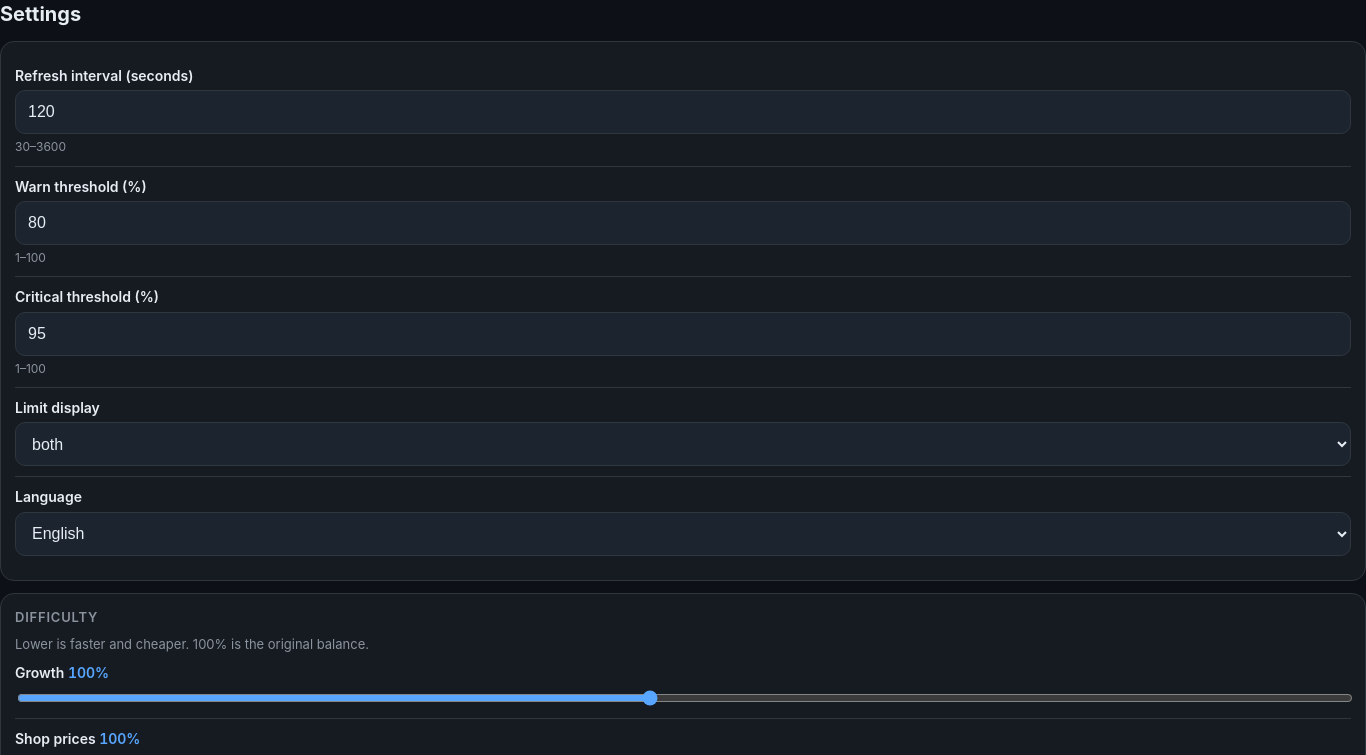
Scenario: Settings round-trip › shows the server's 400 message and restores the real value
Replace the text in the number field labelled "Refresh interval (seconds) 30–3600" with "5": x=683, y=112 [15,90,1351,134]
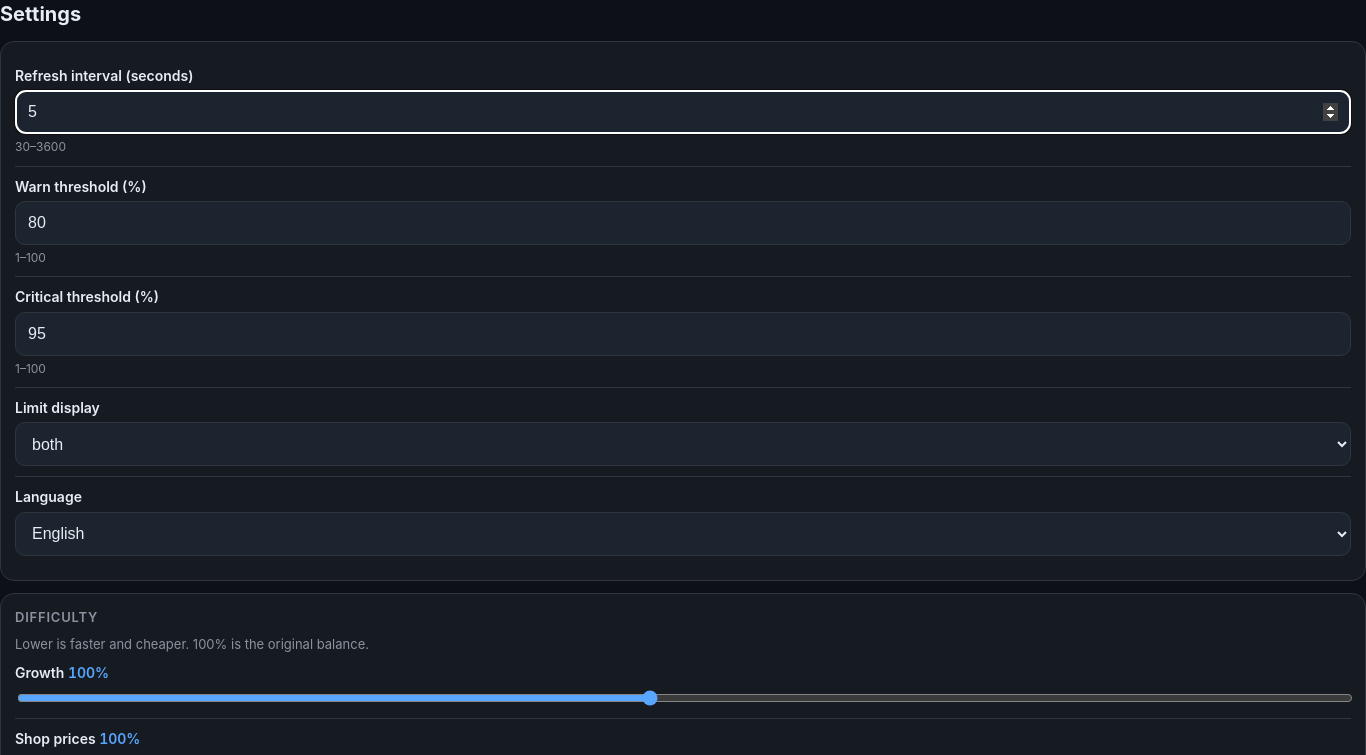
Press Tab
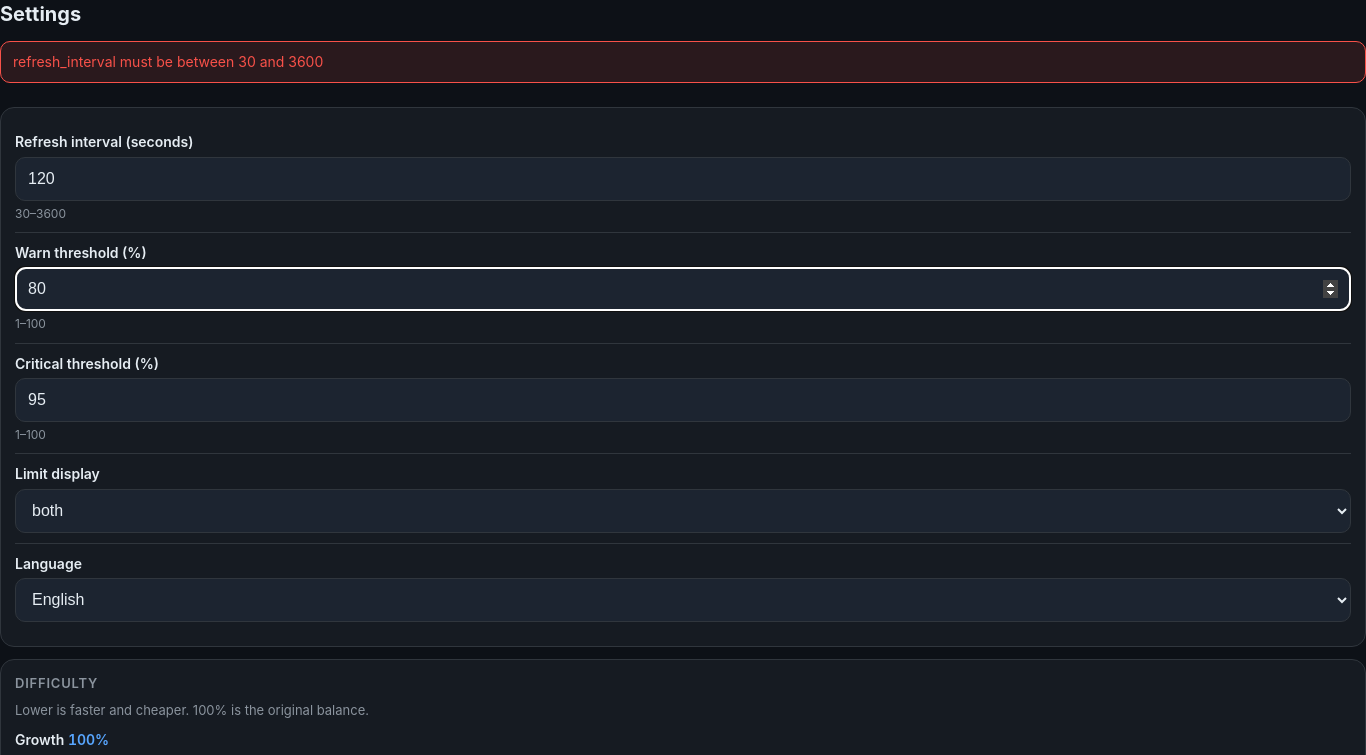
Result: the message reads "refresh_interval must be between 30 and 3600" at [13,53,323,70]
Result: the number field labelled "Refresh interval (seconds) 30–3600" holds "120" at [15,157,1351,201]
